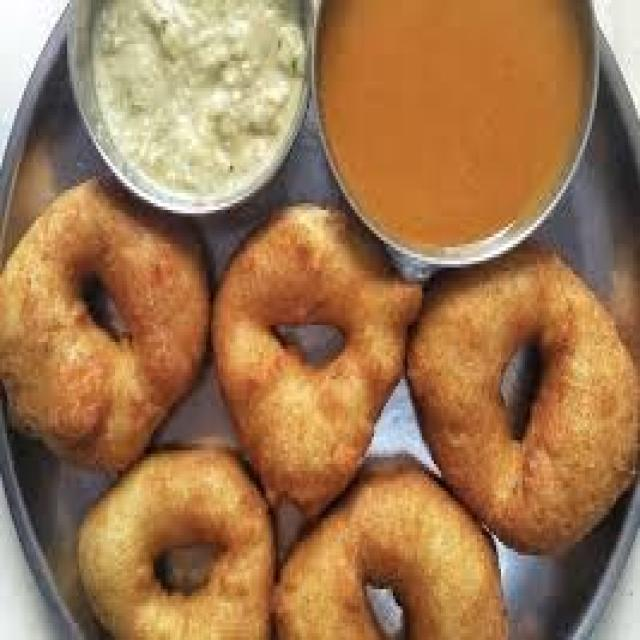MEDU VADA: (407, 247, 638, 552), (213, 203, 419, 518), (0, 183, 209, 471), (276, 464, 506, 637), (79, 450, 271, 637)
